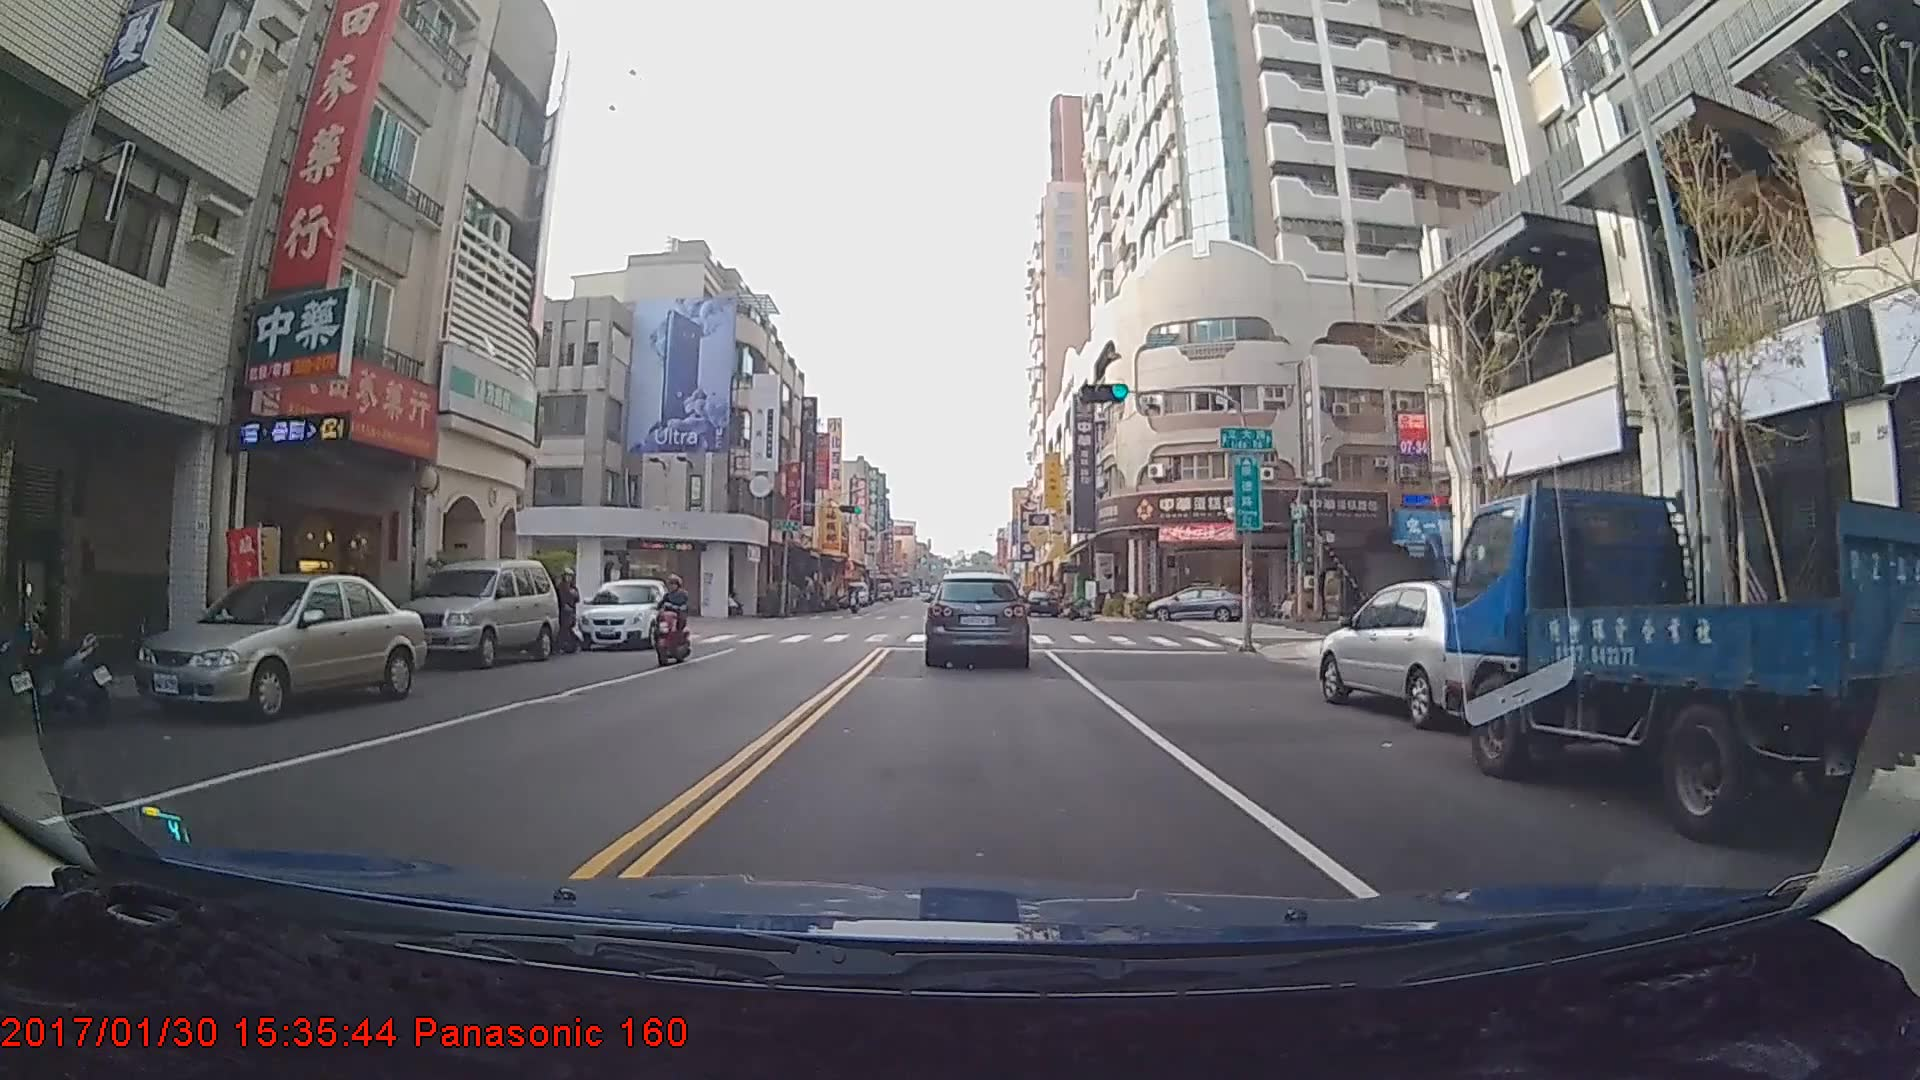rider: (646, 577, 691, 672)
vehicle: (1441, 486, 1920, 843), (133, 574, 417, 725), (1314, 580, 1542, 729), (396, 557, 561, 668), (924, 571, 1029, 667), (577, 577, 672, 651), (1145, 585, 1247, 623), (1023, 588, 1060, 618), (844, 580, 868, 608)
